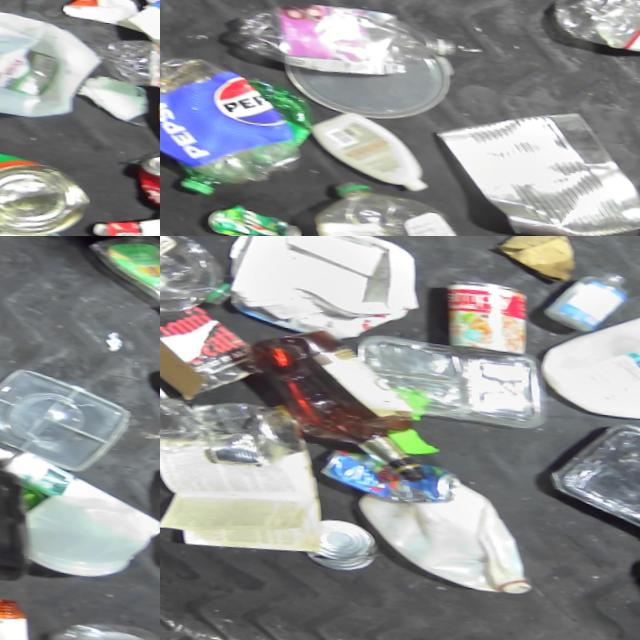can: (433, 91, 640, 236), (0, 138, 95, 236), (324, 447, 463, 505), (207, 391, 303, 473), (443, 271, 531, 348), (191, 193, 318, 236), (35, 604, 160, 640), (306, 512, 384, 566), (130, 143, 160, 203)
milk_jug: (370, 489, 541, 591), (25, 475, 160, 577), (543, 286, 640, 417), (0, 0, 101, 118)
plastic_bottle: (160, 43, 306, 183), (160, 236, 240, 322), (547, 0, 640, 59), (103, 25, 160, 84), (160, 386, 196, 455)
